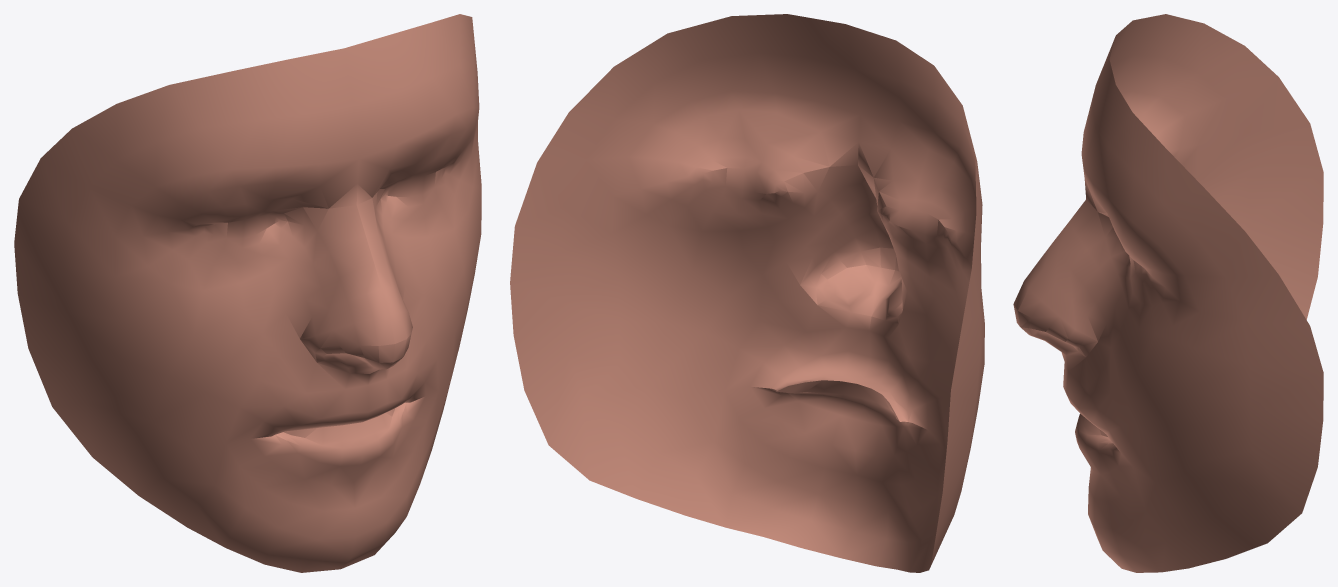
The model's file is faceMakeUp.glb.
3 views of the same model, side by side, from view 1: azimuth 30°, elevation 25°; view 2: azimuth 150°, elevation 25°; view 3: azimuth 270°, elevation 25° (orthographic). The views are drawn at different scales.
Parts seen in each view (by area): view 1: 468_tris; view 2: 468_tris; view 3: 468_tris.
Boxes of the visible parts, left/top/right/bottom form: 468_tris: left=14, top=14, right=481, bottom=572; 468_tris: left=510, top=14, right=984, bottom=572; 468_tris: left=1013, top=14, right=1323, bottom=572.
Bounding box in the file's own units: 0.1549 × 0.1767 × 0.1002.
1 material, 1 textured.
